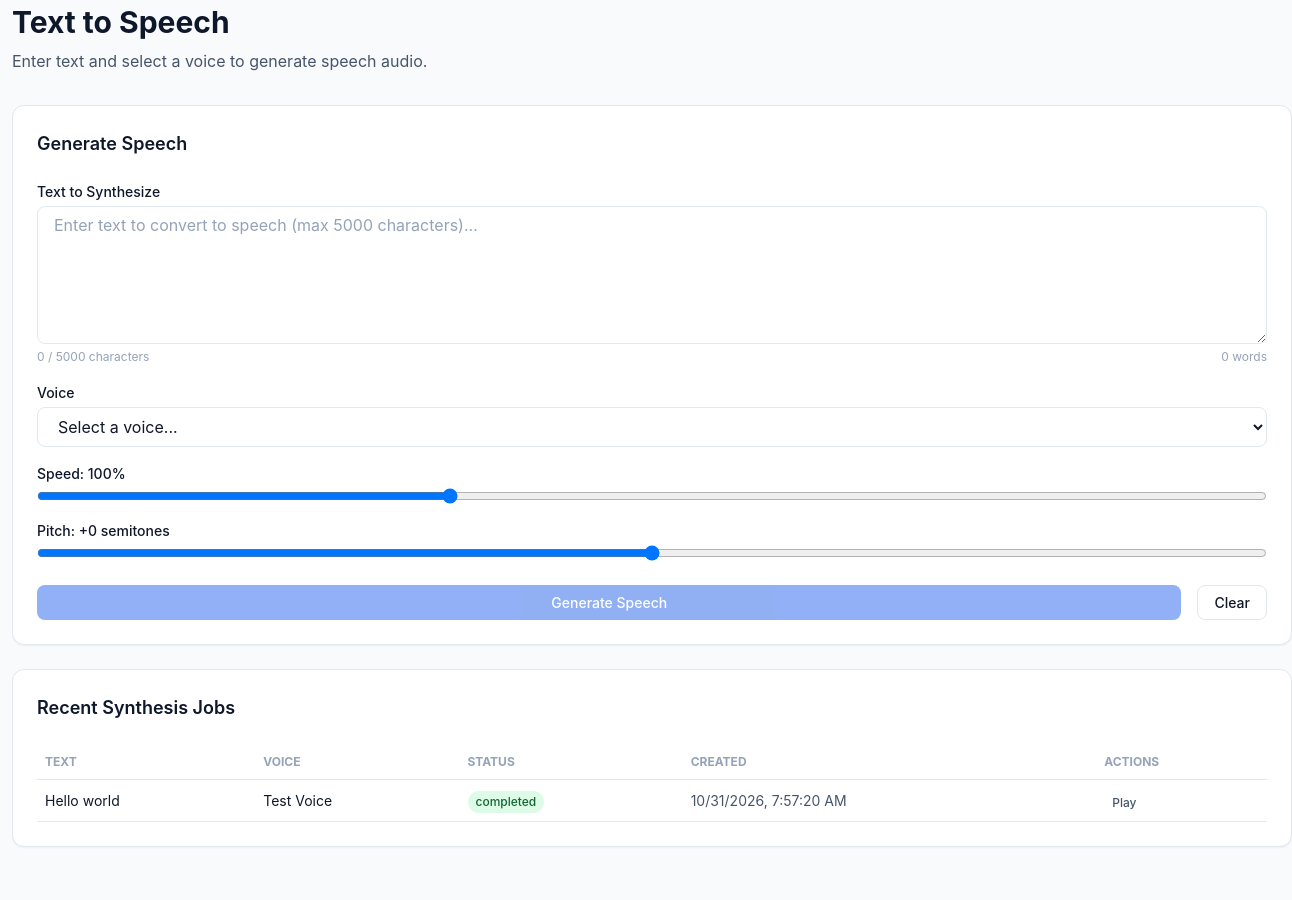
Test case: Dashboard › enables generate button when text and voice selected
Expected: the button "Generate Speech" is disabled, [37,585,1182,620]
Type "Test text" into the text box labelled "Text to Synthesize" at (652, 275), box [37,206,1267,344]
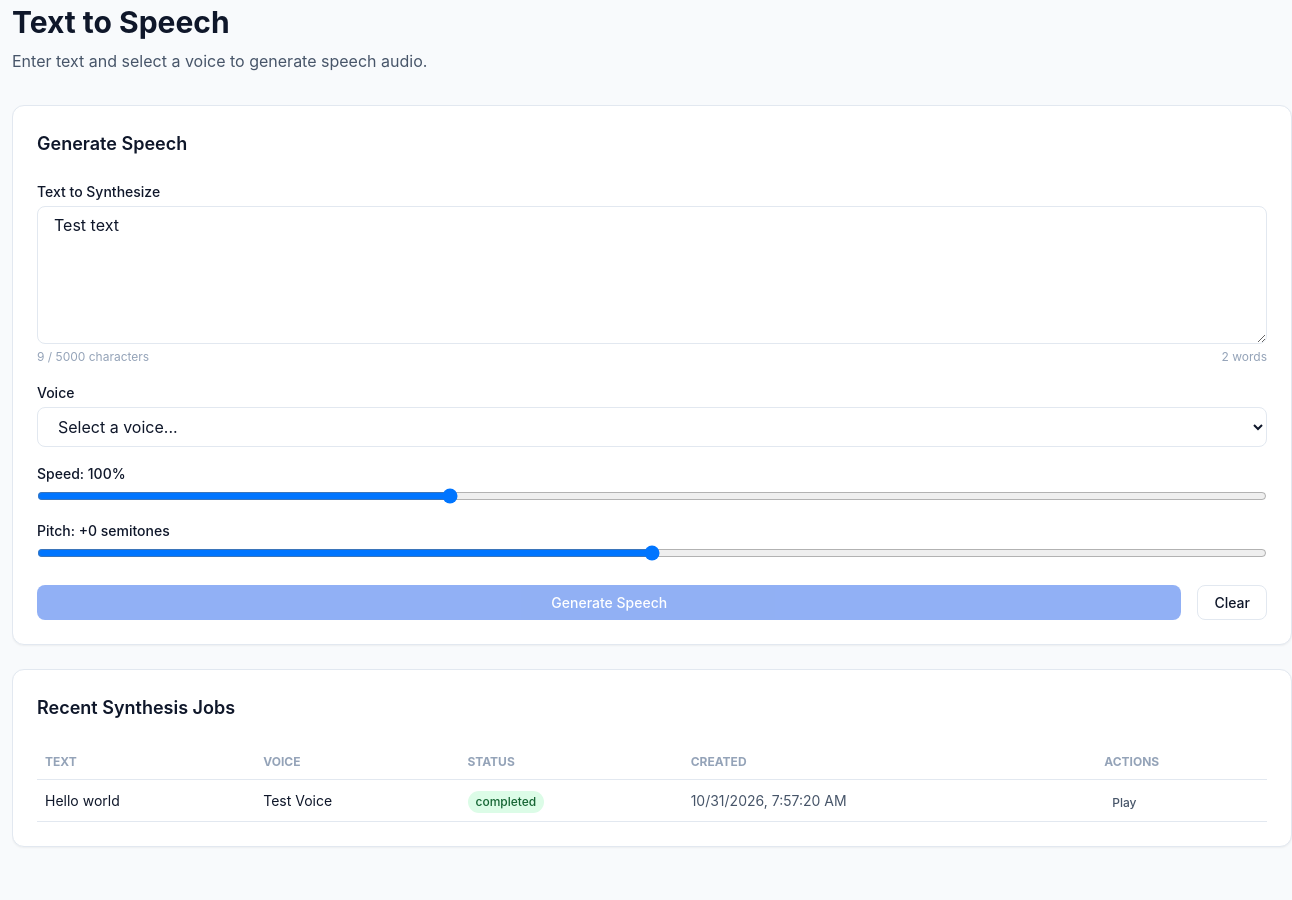
Expected: the button "Generate Speech" is disabled, [37,585,1182,620]
Select "Test Voice" in the dropdown labelled "Voice" at (652, 427), box [37,407,1267,447]
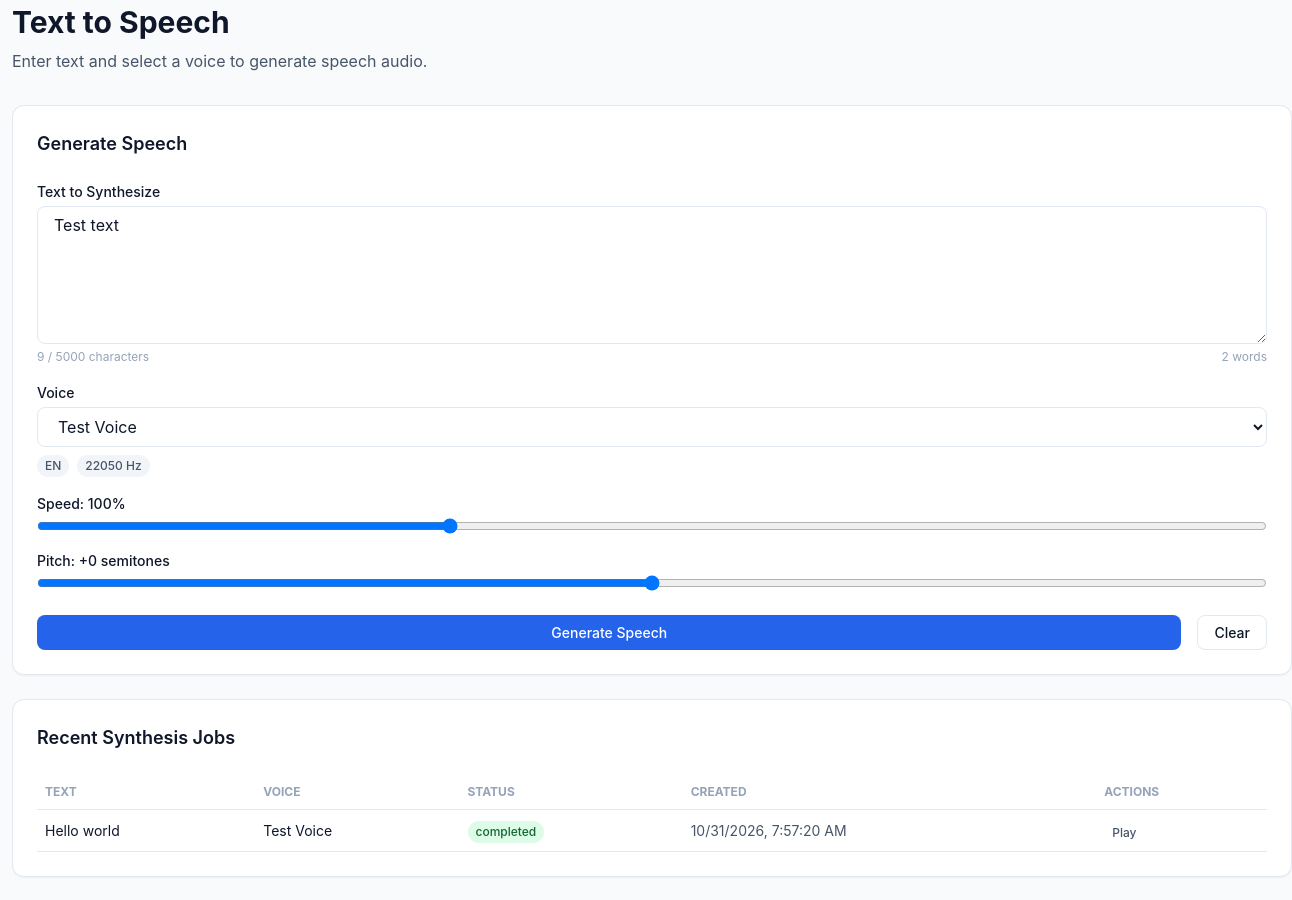
Expected: the button "Generate Speech" is enabled, [37,615,1182,650]
